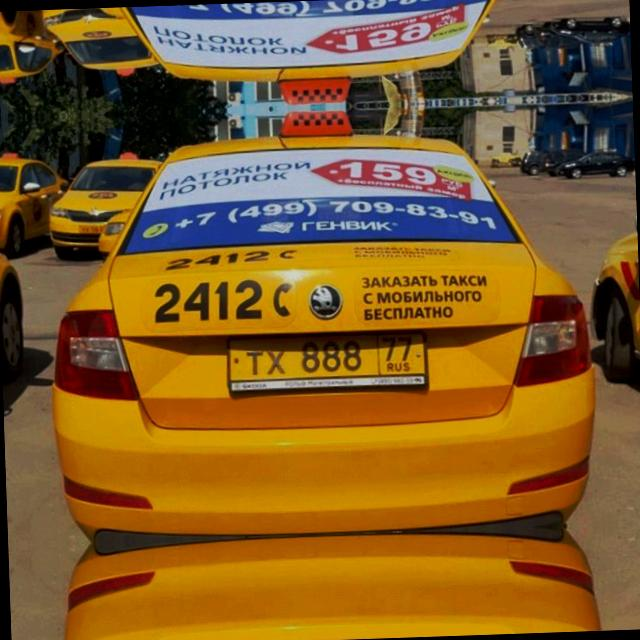taxi: (220, 322, 434, 402)
